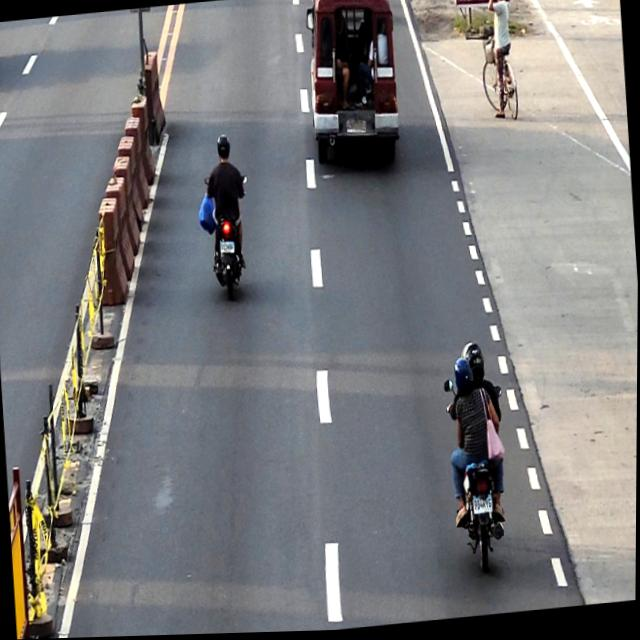Bicycle: (479, 34, 521, 125)
Jeep: (302, 0, 401, 168)
License-Plate: (472, 497, 494, 516), (347, 120, 367, 136), (219, 242, 235, 255)
Motorcycle: (443, 371, 516, 575), (204, 172, 255, 303)
